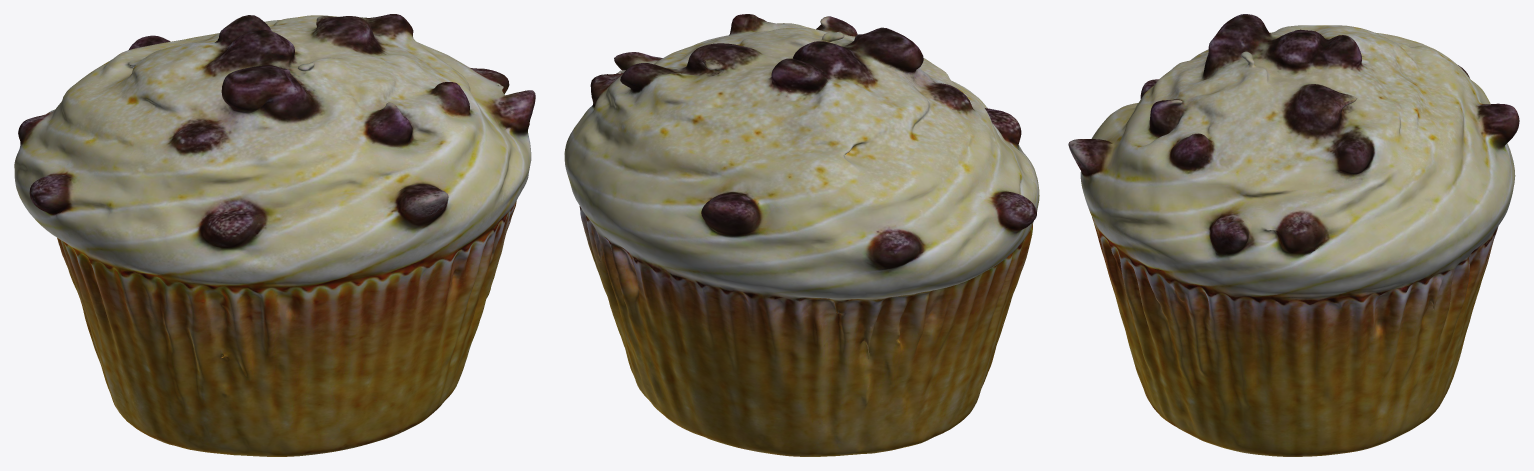
Rendered from cupcake2.glb.
3 renders of one model, left to right at view 1: azimuth 30°, elevation 25°; view 2: azimuth 150°, elevation 25°; view 3: azimuth 270°, elevation 25°, orthographic. The views are drawn at different scales.
Parts seen in each view (by area): view 1: Object_2; view 2: Object_2; view 3: Object_2.
Boxes of the visible parts, box(x1,y1,x2,y2) form: Object_2: box(14, 14, 535, 456); Object_2: box(564, 14, 1039, 456); Object_2: box(1068, 14, 1519, 456).
Bounding box in the file's own units: 0.08 × 0.06 × 0.07.
Materials: 1 (1 with a texture image).
